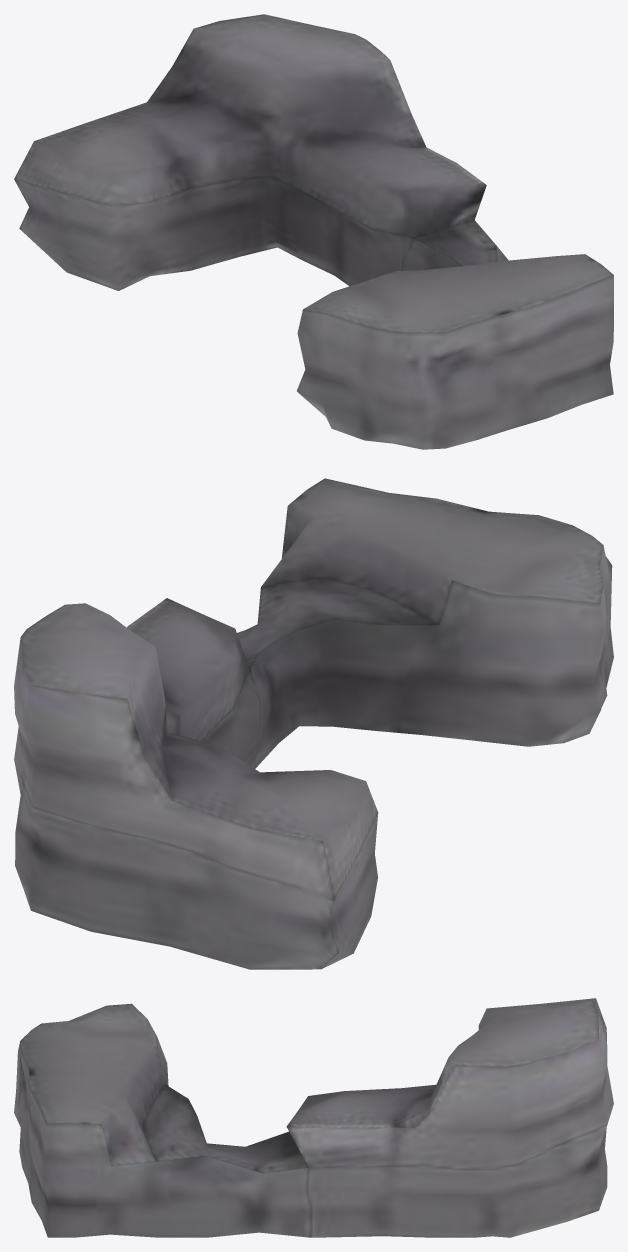
The model's file is free_medieval_stone_steps.glb.
The picture shows the model from 3 angles, top to bottom: view 1: azimuth 30°, elevation 25°; view 2: azimuth 150°, elevation 25°; view 3: azimuth 270°, elevation 25°; orthographic projection. The views are drawn at different scales.
Visible parts, largest first — view 1: free_medieval_stone_steps; view 2: free_medieval_stone_steps; view 3: free_medieval_stone_steps.
Boxes of the visible parts, box(x1,y1,x2,y2) form: free_medieval_stone_steps: box(14, 14, 613, 449); free_medieval_stone_steps: box(14, 478, 613, 969); free_medieval_stone_steps: box(14, 998, 613, 1237).
Size of the model in its own units: 1.44 by 0.8403 by 2.59.
Materials: 1 (1 with a texture image).
